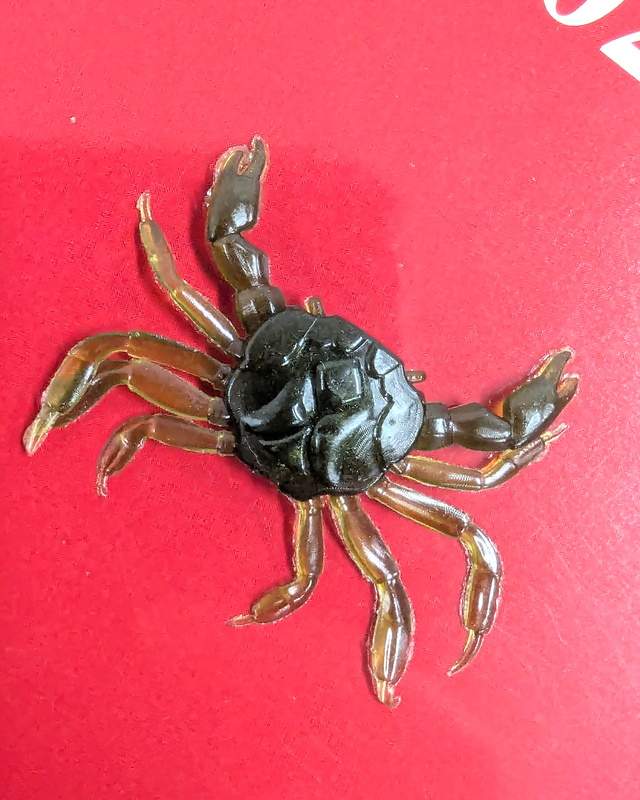crab2: (22, 137, 581, 711)
